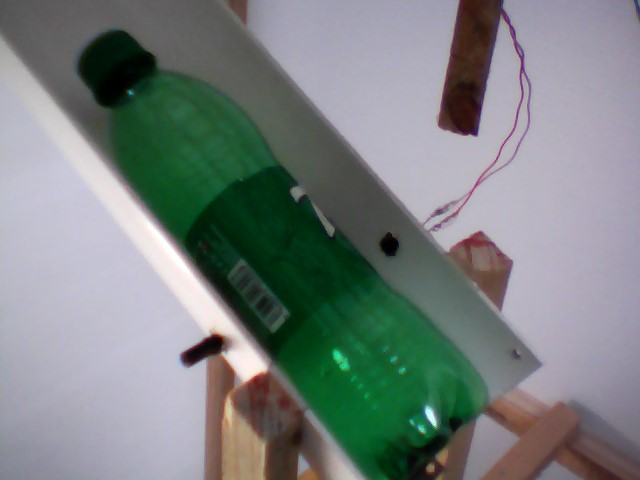plastico: (67, 21, 507, 480)
